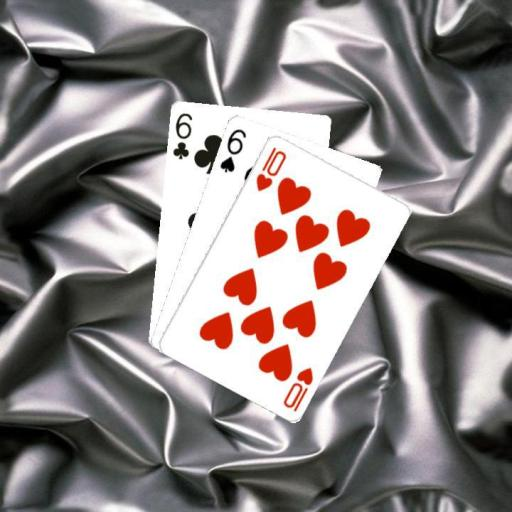10H: (252, 144, 288, 193), (280, 364, 315, 413)
6C: (170, 109, 194, 160)
6S: (216, 125, 248, 174)
